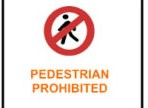Traffic signal: (41, 6, 96, 55)
